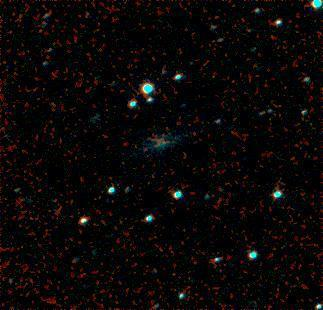star: (256, 21, 286, 51)
